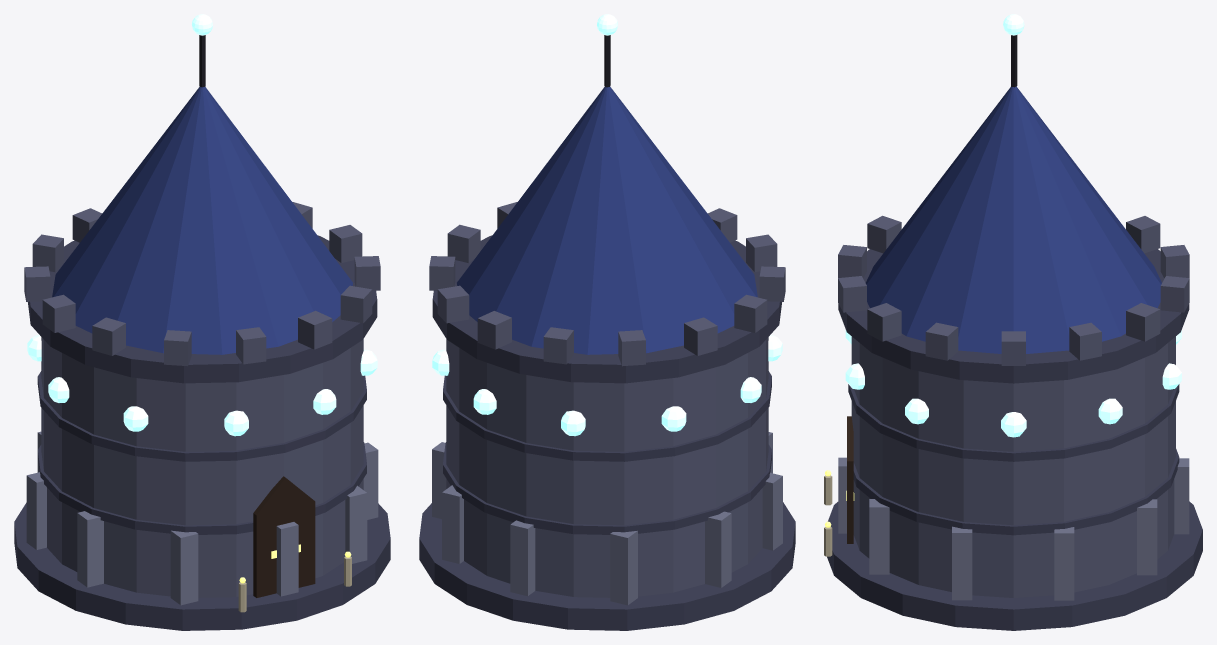
Rendered from rds-moon-crypt.glb.
The picture shows the model from 3 angles, left to right: view 1: azimuth 30°, elevation 25°; view 2: azimuth 150°, elevation 25°; view 3: azimuth 270°, elevation 25°; orthographic projection.
Visible parts, largest first — view 1: cw_paint, cw_neon; view 2: cw_paint, cw_neon; view 3: cw_paint, cw_neon.
Boxes of the visible parts, x1,y1,x2,y2 form: cw_paint: (14,35,390,630); cw_neon: (27,14,377,436); cw_paint: (419,35,795,630); cw_neon: (432,14,782,436); cw_paint: (824,35,1202,630); cw_neon: (845,14,1181,437).
Size of the model in its own units: 5.6 by 8.76 by 5.61.
